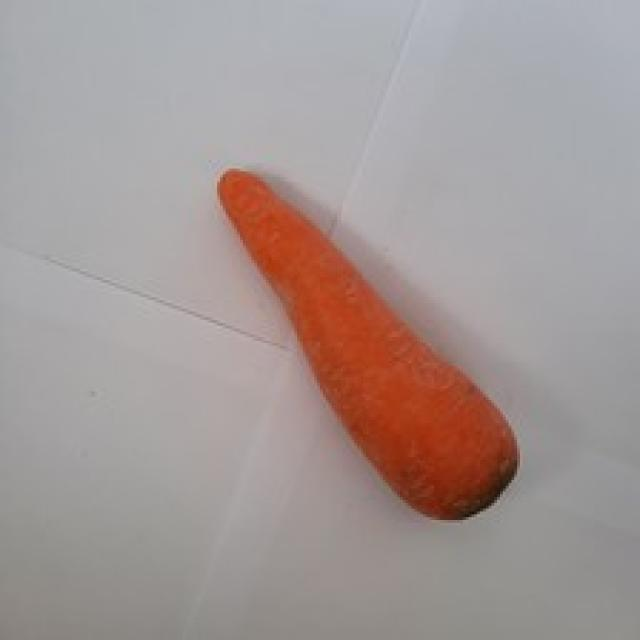Fresh_Carrot: (205, 162, 466, 452)
